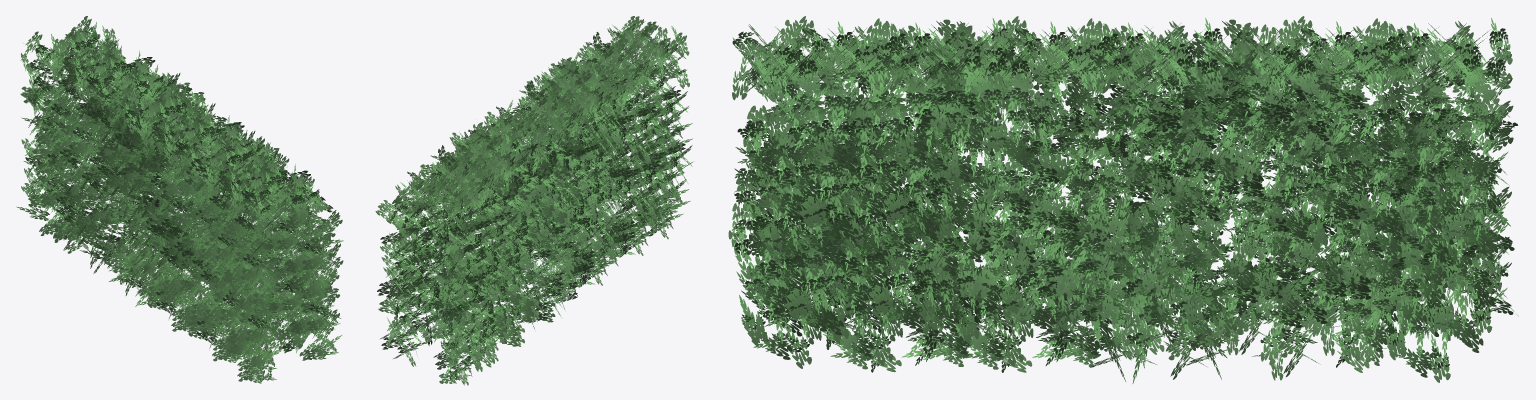
File: Prop_Hedge_03.fbx
3 views of the same model, side by side, from view 1: azimuth 30°, elevation 25°; view 2: azimuth 150°, elevation 25°; view 3: azimuth 270°, elevation 25° (orthographic). The views are drawn at different scales.
Visible parts, largest first — view 1: Prop_Hedge_03; view 2: Prop_Hedge_03; view 3: Prop_Hedge_03.
Part boxes in pixels (x1,y1,x2,y2): Prop_Hedge_03: [16, 16, 343, 383]; Prop_Hedge_03: [375, 16, 692, 385]; Prop_Hedge_03: [728, 16, 1518, 383].
Bounding box in the file's own units: 2.2 × 4.71 × 10.57.
